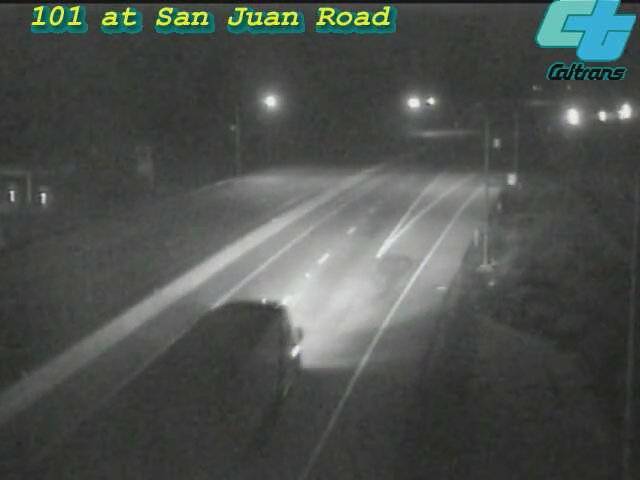vehicle: (138, 353, 248, 463), (575, 92, 625, 142), (545, 91, 595, 141), (602, 86, 640, 136)
